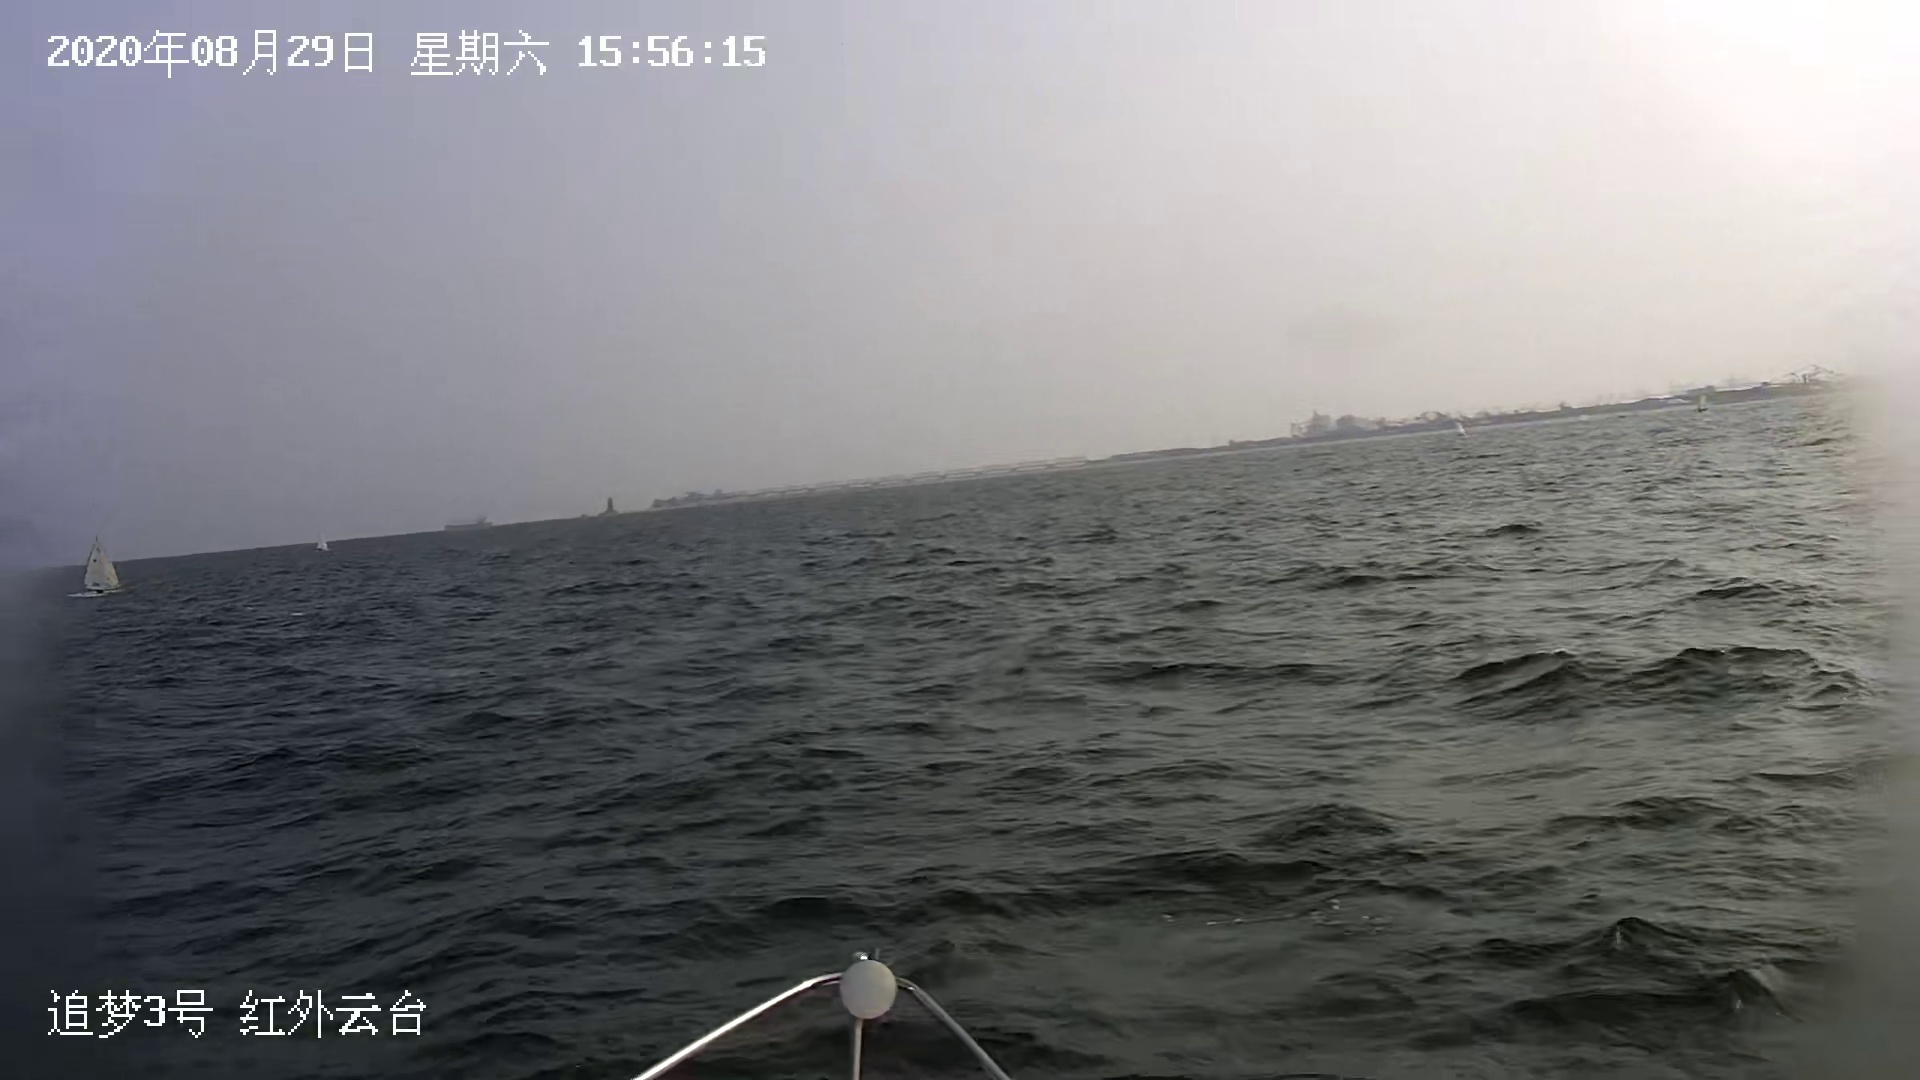barrier: (66, 533, 127, 597), (314, 530, 330, 556), (1451, 422, 1468, 435), (1698, 398, 1712, 414)
coast: (655, 382, 1919, 512)
this: (615, 953, 1023, 1079)
